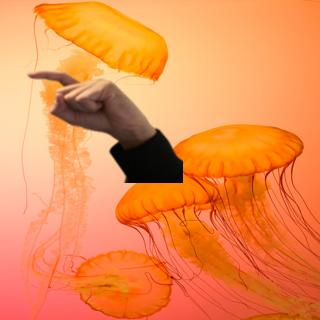WHY: (23, 64, 151, 143)
